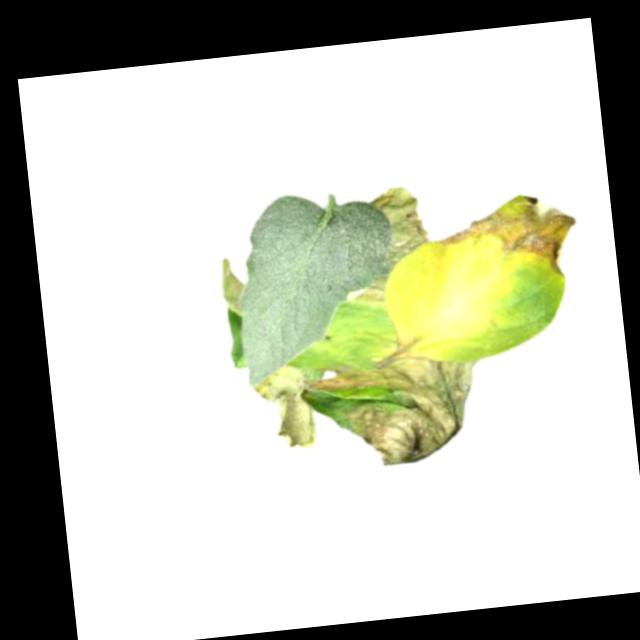Late_blight: (297, 347, 491, 476), (433, 189, 582, 290), (250, 364, 318, 459), (368, 183, 428, 252), (351, 248, 417, 309), (217, 256, 244, 319)
healthy: (230, 184, 406, 387)
